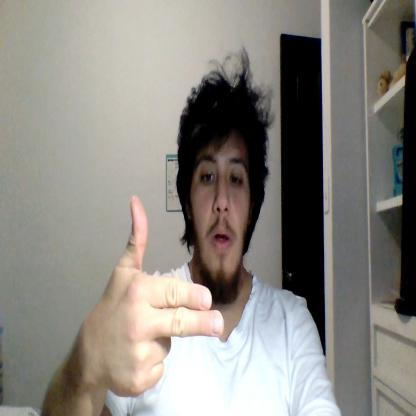H: (99, 197, 223, 397)
